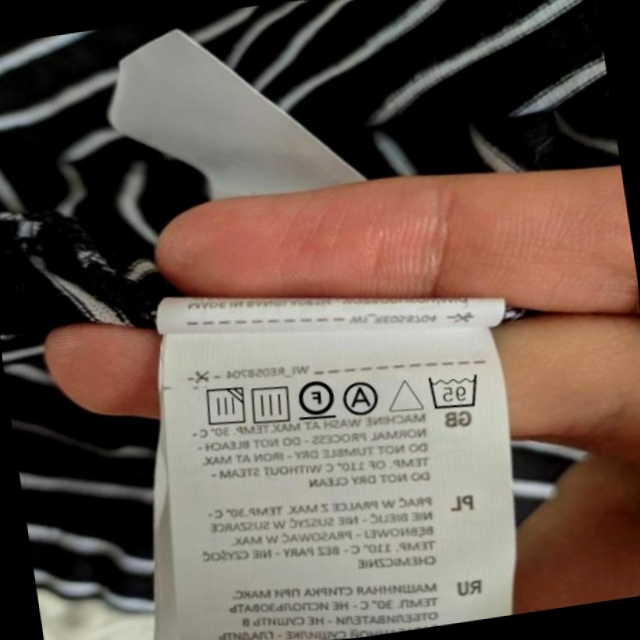95C: (422, 366, 484, 416)
bleach: (385, 371, 427, 418)
drip_dry: (245, 379, 296, 428)
drip_dry_in_shade: (197, 381, 249, 433)
dry_clean: (339, 376, 384, 420)
dry_clean_petrol_only: (292, 372, 339, 425)
